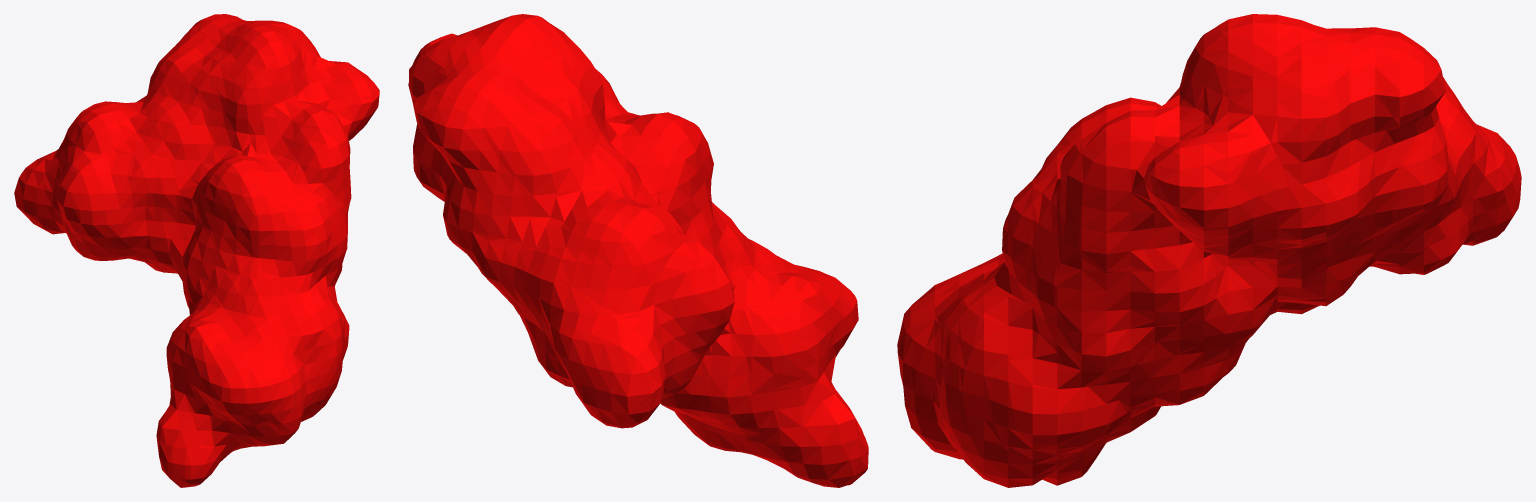
File: ygaV_coarse.dae
The picture shows the model from 3 angles, left to right: view 1: azimuth 30°, elevation 25°; view 2: azimuth 150°, elevation 25°; view 3: azimuth 270°, elevation 25°; orthographic projection. The views are drawn at different scales.
Parts seen in each view (by area): view 1: ygaV; view 2: ygaV; view 3: ygaV.
Boxes of the visible parts, x1,y1,x2,y2 form: ygaV: (14,14,379,487); ygaV: (408,14,868,487); ygaV: (897,14,1521,487).
Bounding box in the file's own units: 60.16 × 75.99 × 75.85.
